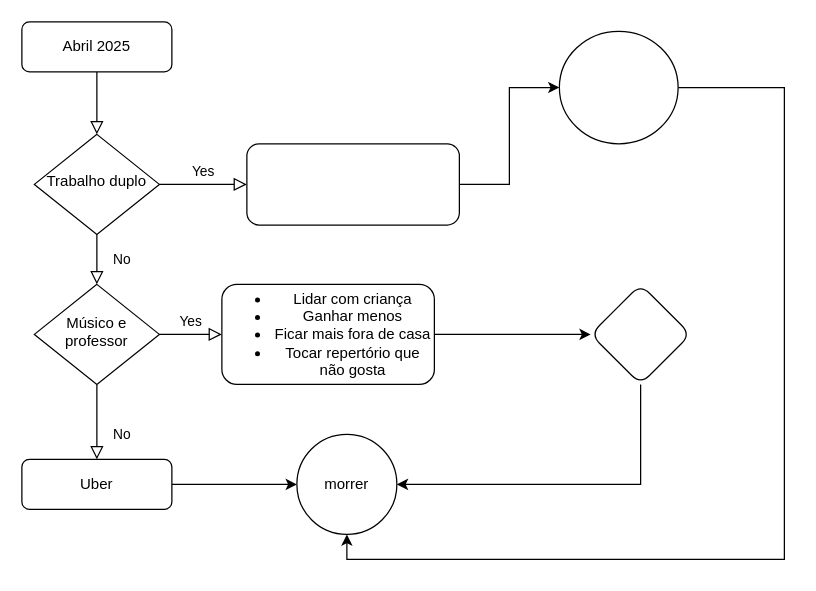
Image size: 816x591. Some labels were removed from this diagram. Each missing label, with the box of its shape:
Algum dinheiro Sem tempo Musicalidade em baixa Morto por dentro: (246, 142, 459, 225)
Comprar casa com sabor de desejo contrariado: (558, 30, 678, 144)
Nunca comprar casa: (589, 283, 691, 384)
